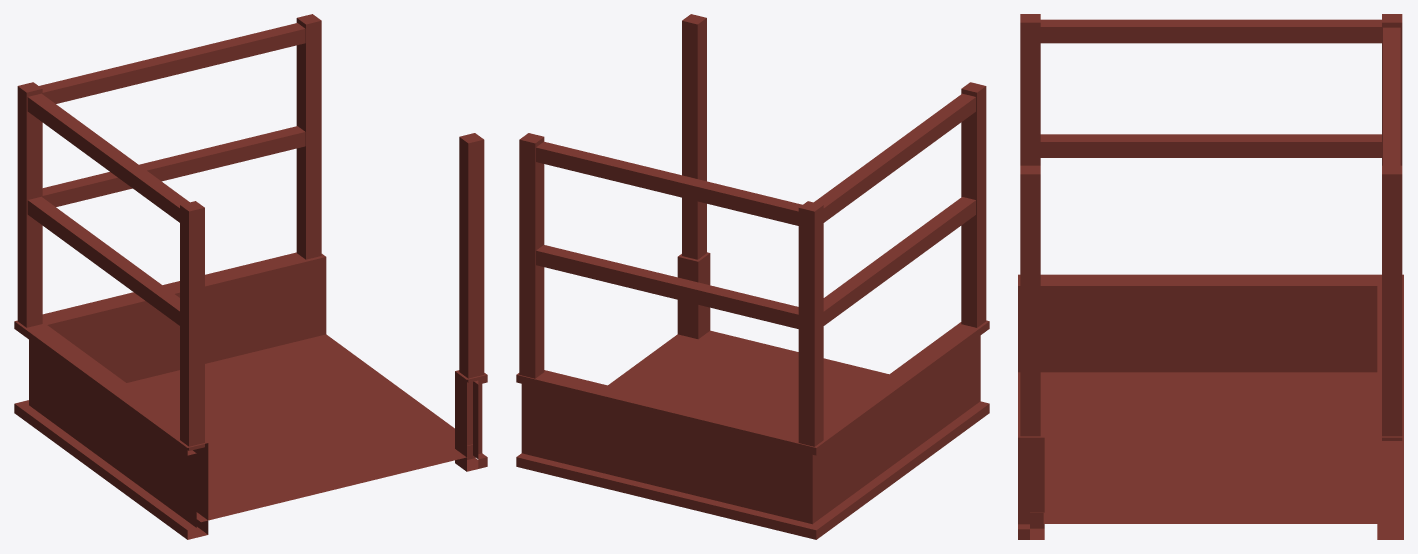
Rendered from Industrial catwalk walk way 7.fbx.
3 views of the same model, side by side, from view 1: azimuth 30°, elevation 25°; view 2: azimuth 150°, elevation 25°; view 3: azimuth 270°, elevation 25° (orthographic). The views are drawn at different scales.
Visible parts, largest first — view 1: polySurface104; view 2: polySurface104; view 3: polySurface104.
Part boxes in pixels (box(x1,y1,x2,y2)): polySurface104: box(14, 14, 487, 539); polySurface104: box(516, 14, 989, 539); polySurface104: box(1018, 14, 1403, 539).
Bounding box in the file's own units: 129 × 134 × 129.
